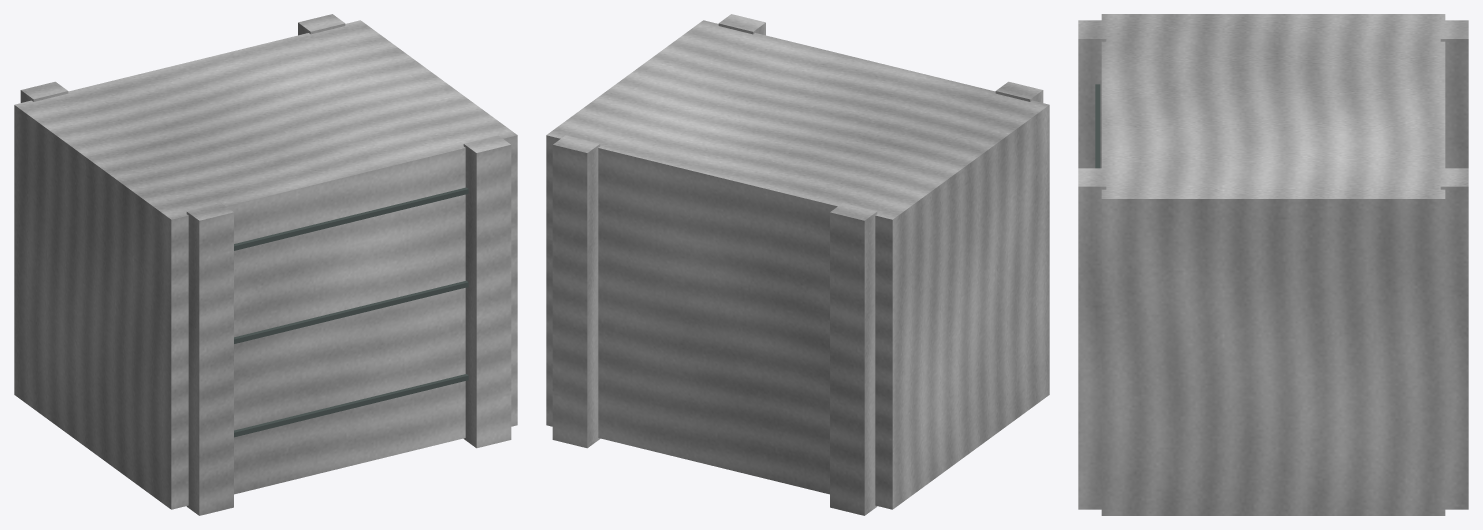
Rendered from crate.glb.
The picture shows the model from 3 angles, left to right: view 1: azimuth 30°, elevation 25°; view 2: azimuth 150°, elevation 25°; view 3: azimuth 270°, elevation 25°; orthographic projection. The views are drawn at different scales.
Visible parts, largest first — view 1: crate_Wood, crate_WoodLight, crate_Ink; view 2: crate_Wood, crate_WoodLight; view 3: crate_Wood, crate_WoodLight, crate_Ink.
Part boxes in pixels (x1,y1,x2,y2): crate_Wood: (14,20,517,509); crate_WoodLight: (20,14,511,515); crate_Ink: (234,187,468,437); crate_Wood: (546,20,1049,509); crate_WoodLight: (552,14,1043,515); crate_Wood: (1101,14,1445,515); crate_WoodLight: (1078,20,1468,509); crate_Ink: (1095,84,1100,168).
Size of the model in its own units: 0.7 by 0.57 by 0.625.
Materials: 3 (2 with a texture image).
